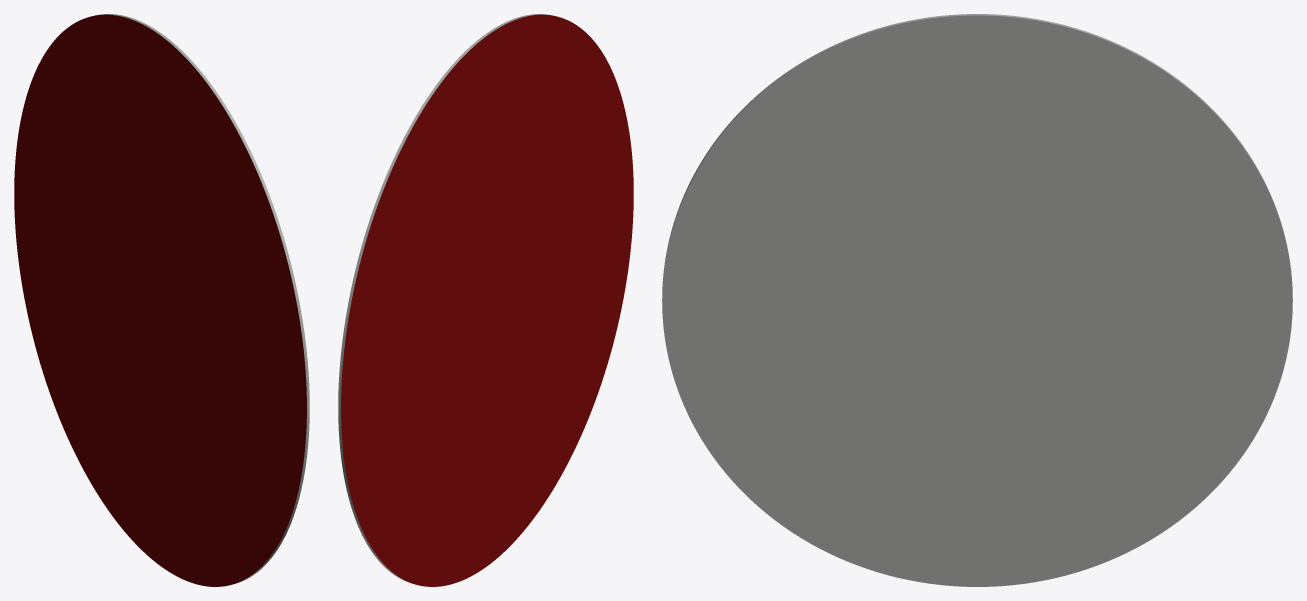
Rendered from RoadtSign_2type_B.FBX.
The picture shows the model from 3 angles, left to right: view 1: azimuth 30°, elevation 25°; view 2: azimuth 150°, elevation 25°; view 3: azimuth 270°, elevation 25°; orthographic projection. The views are drawn at different scales.
Visible parts, largest first — view 1: roadtsign_2type; view 2: roadtsign_2type; view 3: roadtsign_2type.
Boxes of the visible parts, x1,y1,x2,y2 form: roadtsign_2type: (14, 14, 309, 586); roadtsign_2type: (338, 14, 633, 586); roadtsign_2type: (662, 14, 1292, 586).
Size of the model in its own units: 0.5 by 89.99 by 90.
